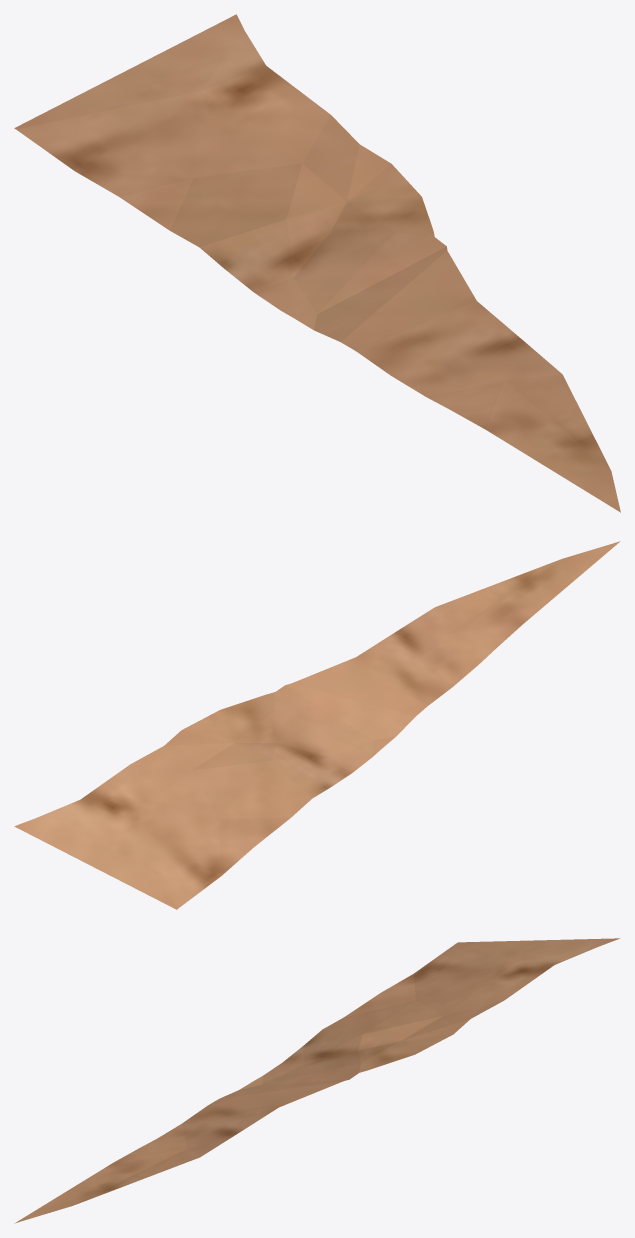
The picture shows the model from 3 angles, top to bottom: view 1: azimuth 30°, elevation 25°; view 2: azimuth 150°, elevation 25°; view 3: azimuth 330°, elevation 25°; orthographic projection. The views are drawn at different scales.
Size of the model in its own units: 0.115 by 0.0295 by 0.5432.
1 material, 1 textured.
